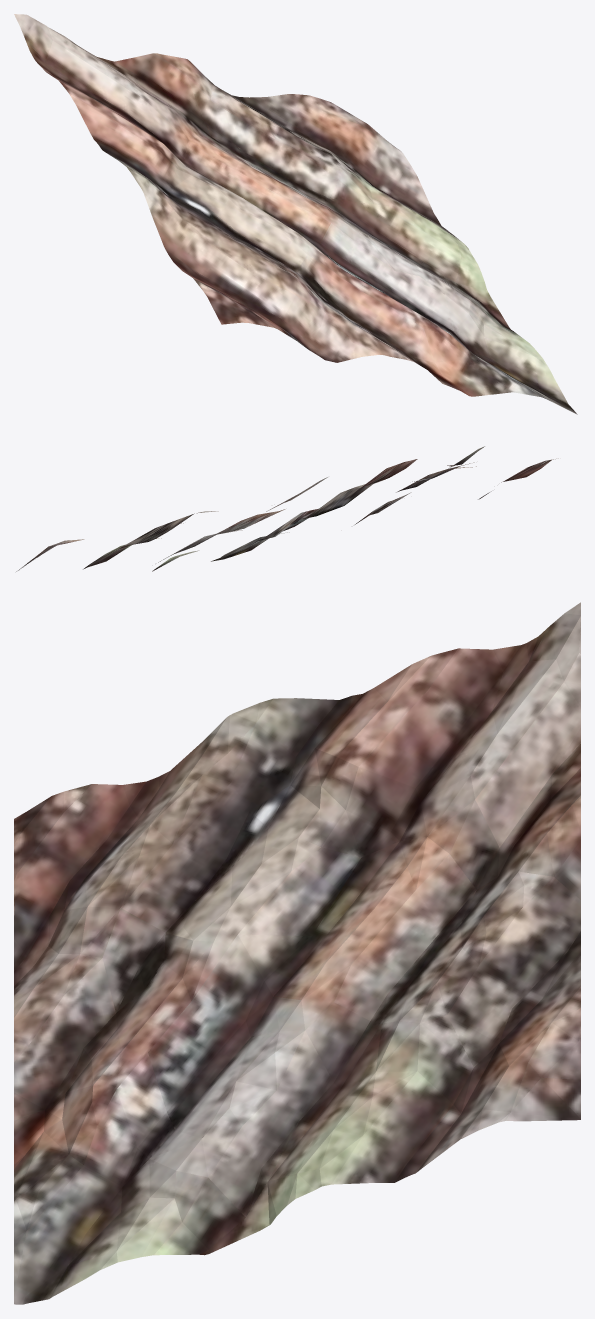
3 renders of one model, top to bottom at view 1: azimuth 30°, elevation 25°; view 2: azimuth 150°, elevation 25°; view 3: azimuth 270°, elevation 25°, orthographic. The views are drawn at different scales.
Bounding box in the file's own units: 0.8374 × 0.7545 × 0.8374.
3 materials, 3 textured.
